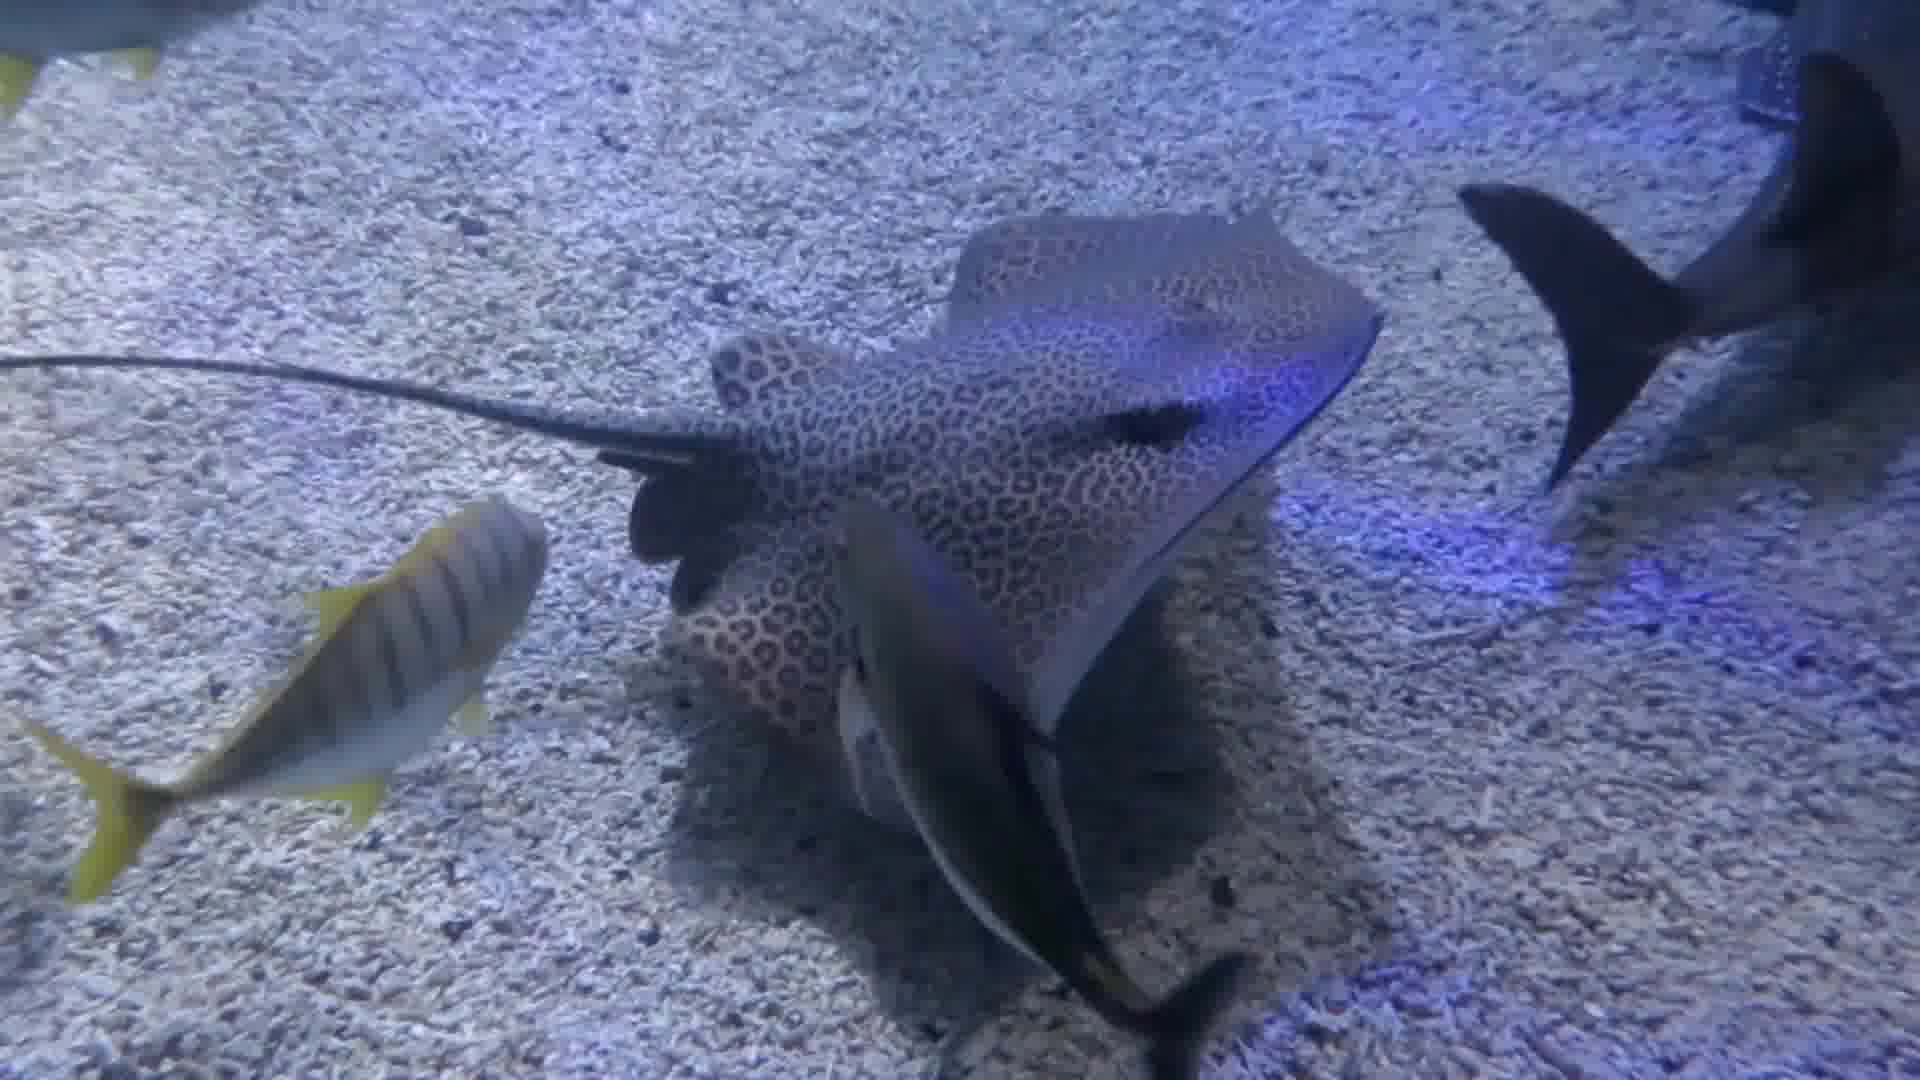Himantura uarnak: (607, 7, 1436, 818)
